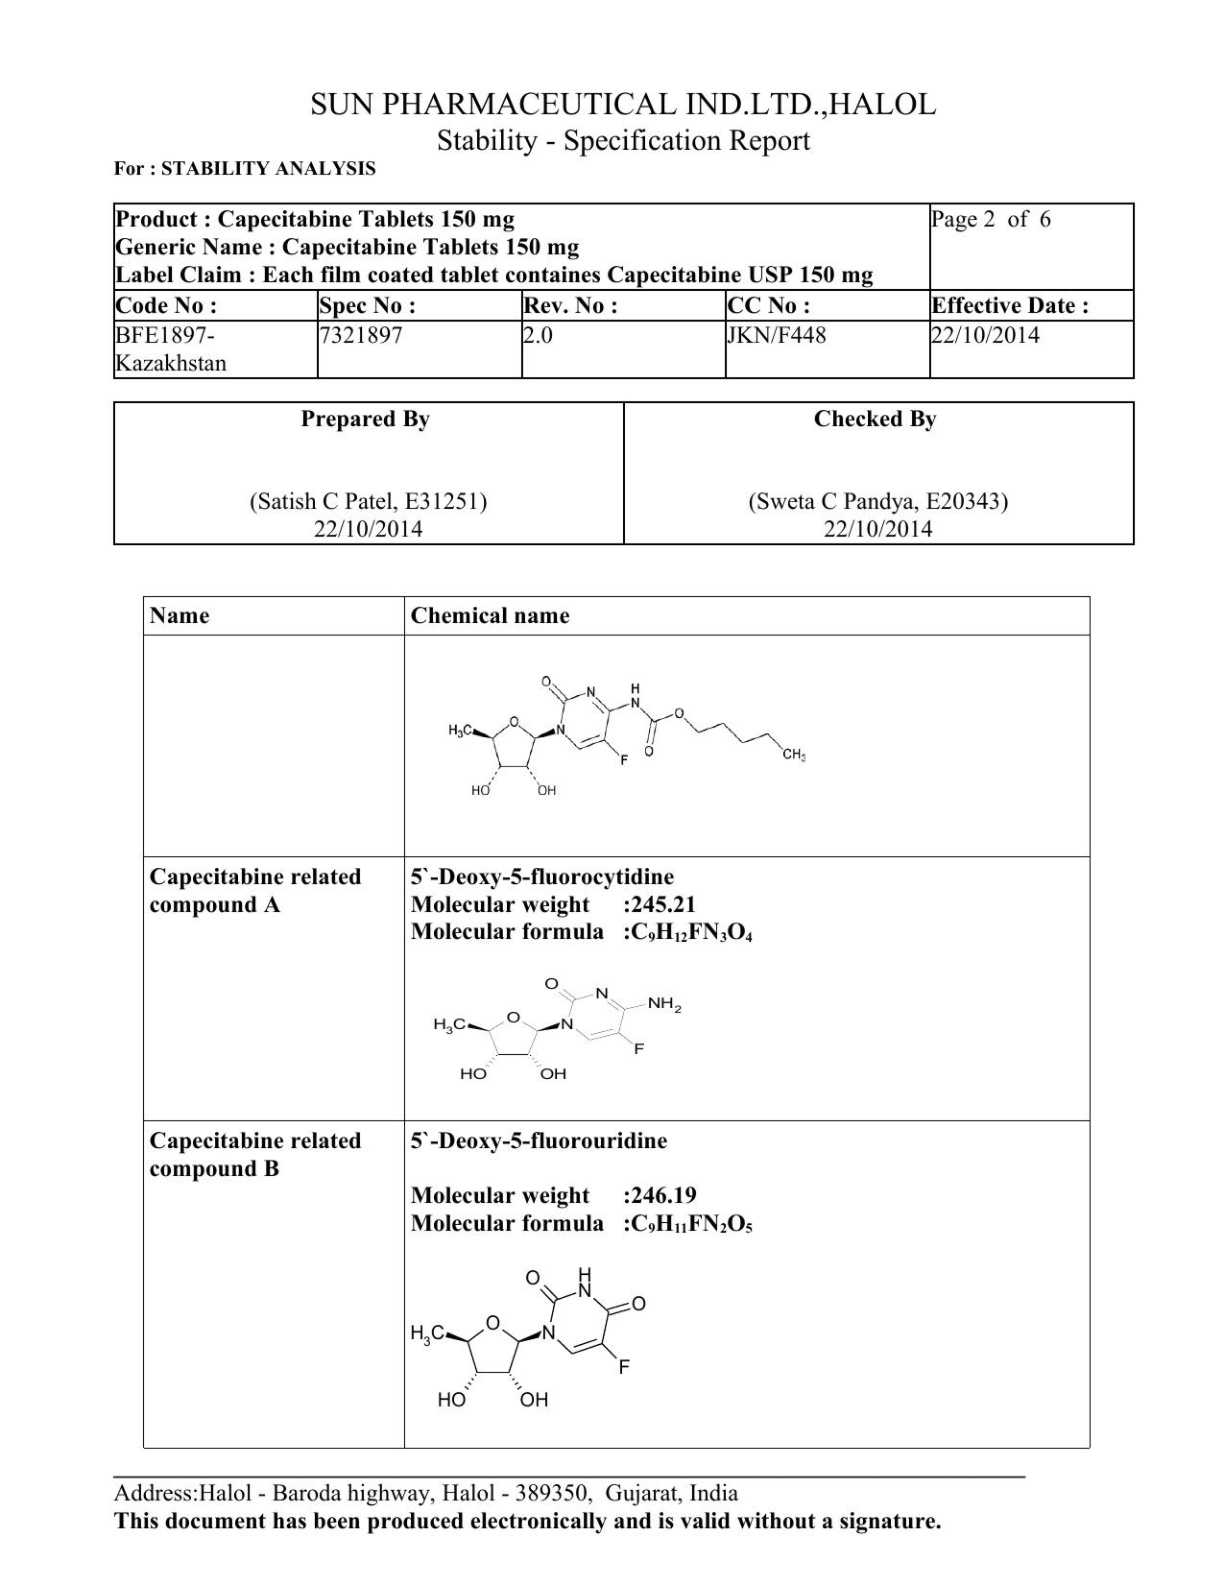full_lined: (141, 595, 1092, 1450), (112, 400, 1135, 546)
merged_cells: (111, 201, 1134, 381)
